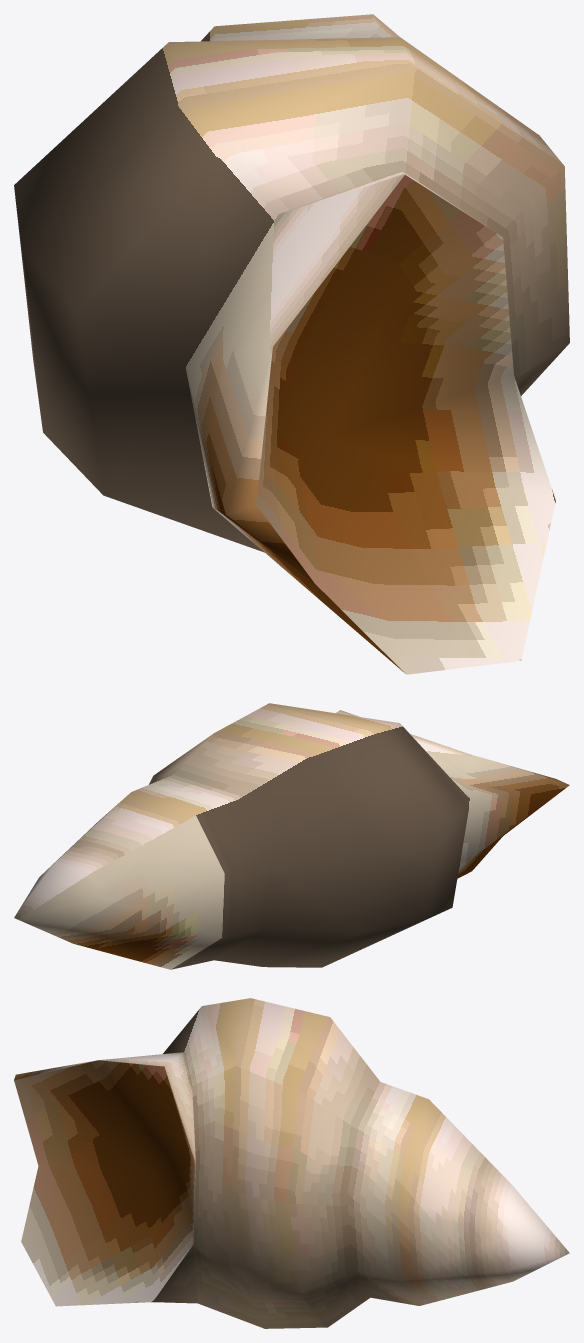
Rendered from int_shl_hora.dae.
3 renders of one model, top to bottom at view 1: azimuth 30°, elevation 25°; view 2: azimuth 150°, elevation 25°; view 3: azimuth 270°, elevation 25°, orthographic. The views are drawn at different scales.
Parts seen in each view (by area): view 1: int_shl_hora; view 2: int_shl_hora; view 3: int_shl_hora.
Boxes of the visible parts, <box> form: int_shl_hora: <box>14,14,569,674</box>; int_shl_hora: <box>14,703,569,969</box>; int_shl_hora: <box>14,998,569,1328</box>.
Bounding box in the file's own units: 13.54 × 10.24 × 19.53.
1 material, 1 textured.
